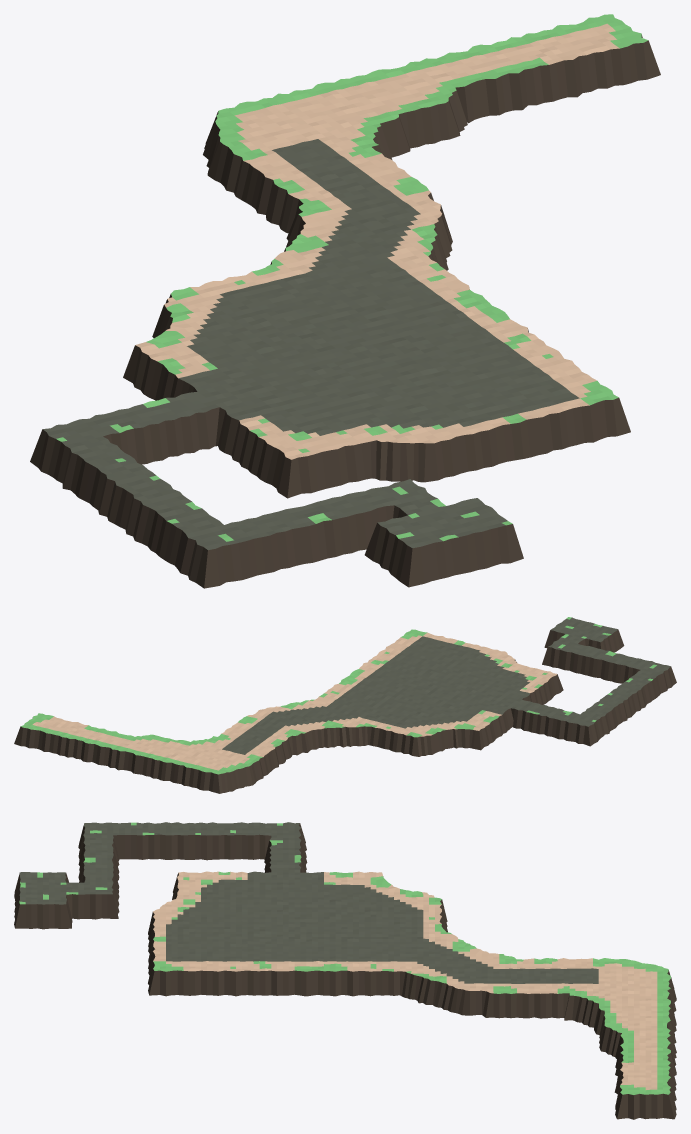
File: WorldSectionThree.fbx
3 renders of one model, top to bottom at view 1: azimuth 30°, elevation 25°; view 2: azimuth 150°, elevation 25°; view 3: azimuth 270°, elevation 25°, orthographic. The views are drawn at different scales.
Visible parts, largest first — view 1: Plane.002; view 2: Plane.002; view 3: Plane.002.
Boxes of the visible parts, left/top/right/bottom form: Plane.002: left=30, top=14, right=660, bottom=588; Plane.002: left=14, top=617, right=676, bottom=793; Plane.002: left=14, top=822, right=676, bottom=1119.
Bounding box in the file's own units: 23836 × 931 × 24016.
